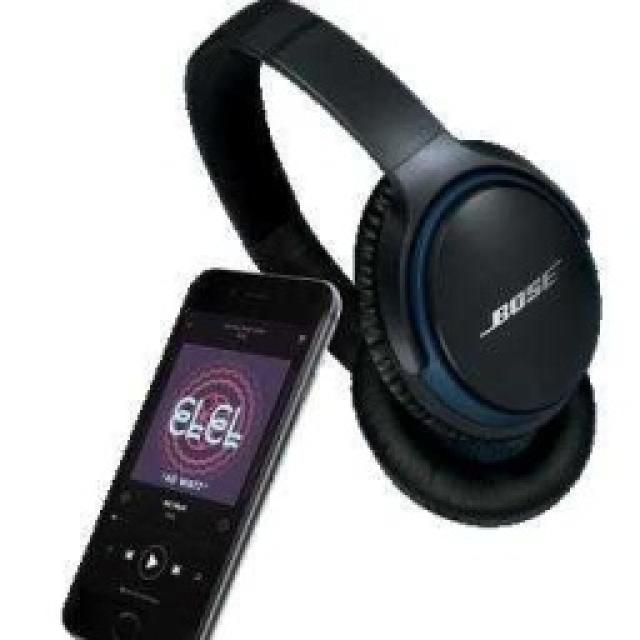headphones: (180, 0, 602, 528)
